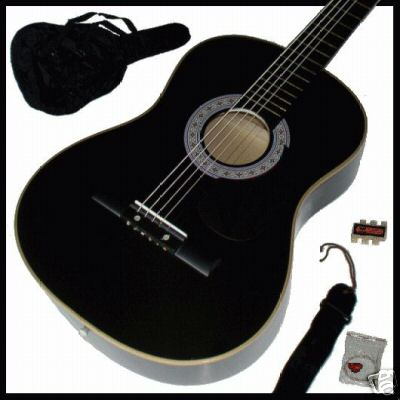guitar: (13, 1, 380, 386)
